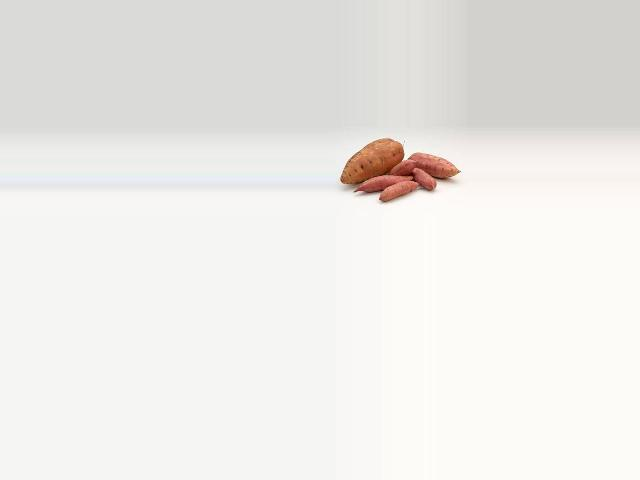sweet_potato: (409, 152, 462, 178)
